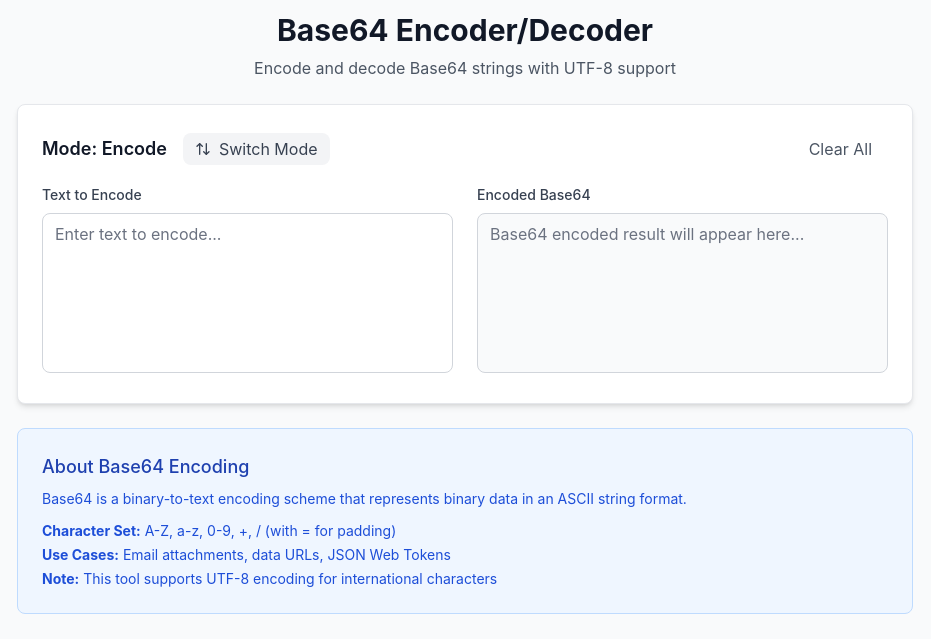
Test case: Base64Tool › clears all input and output
Type "Hello World!" into the text box with placeholder "Enter text to encode...".
click(248, 293); type("Hello World!")  # box [42,213,453,373]
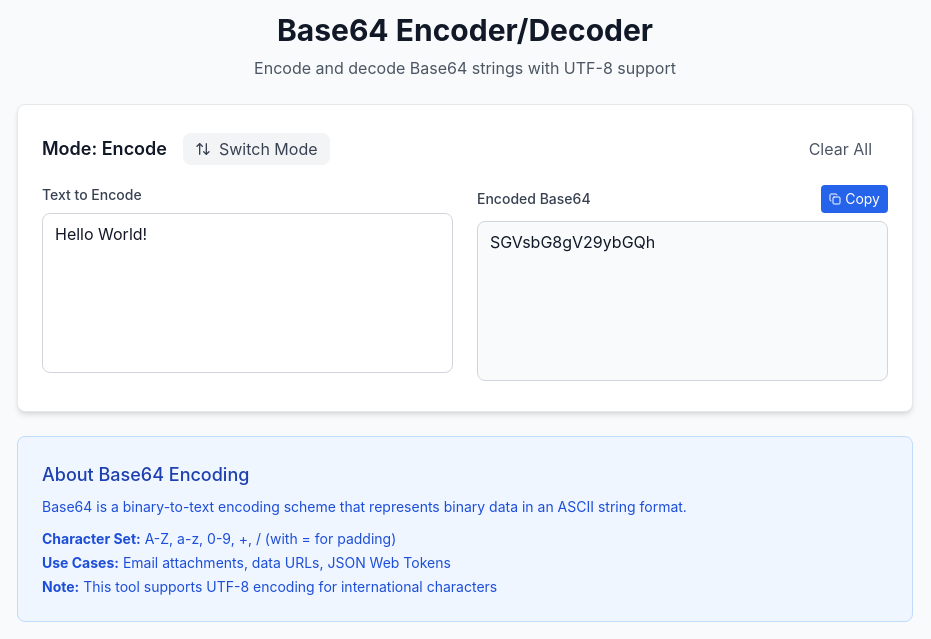
Expected: the text box with placeholder "Base64 encoded result will appear here..." below "Encoded Base64" holds "SGVsbG8gV29ybGQh", [477,221,888,381]
Click the button "Clear All".
click(840, 149)  # box [793,129,888,169]
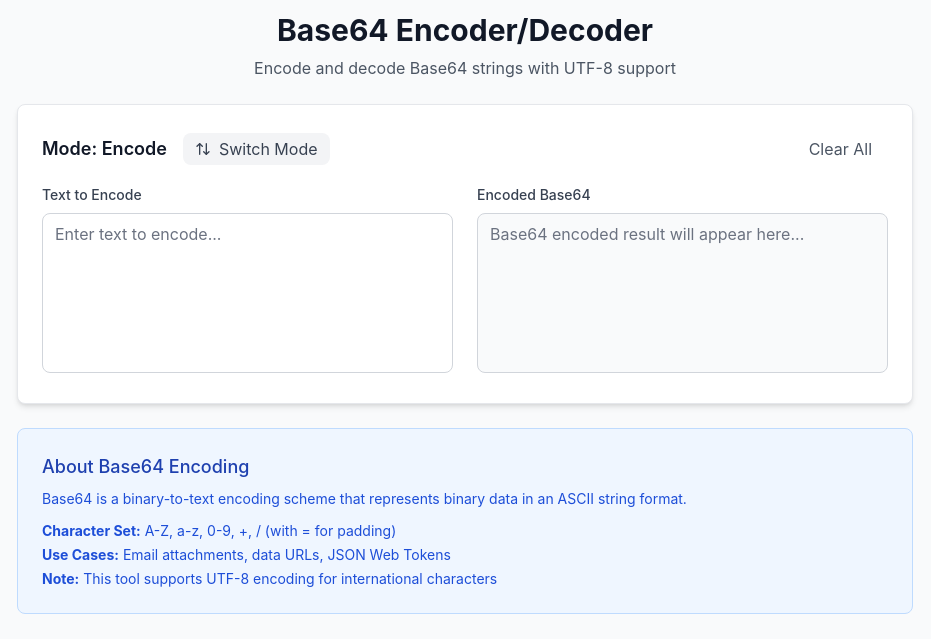
Expected: the text box with placeholder "Enter text to encode..." is empty, [42,213,453,373]
Expected: the text box with placeholder "Base64 encoded result will appear here..." is empty, [477,213,888,373]
